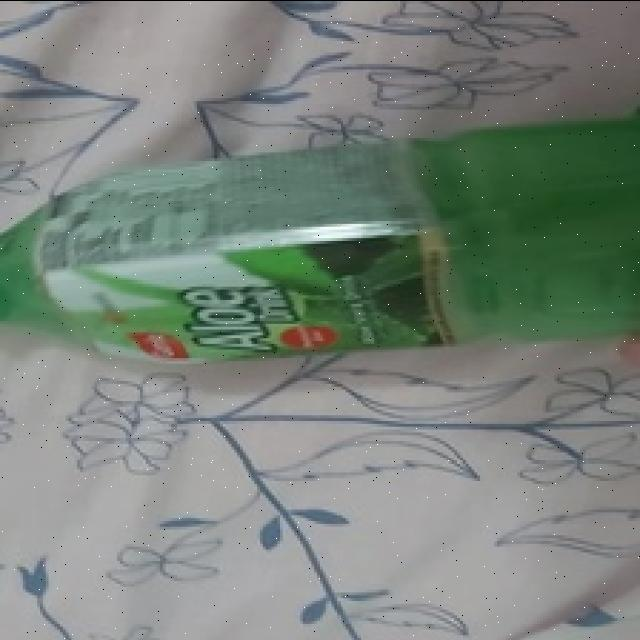plastic: (0, 84, 640, 382)
